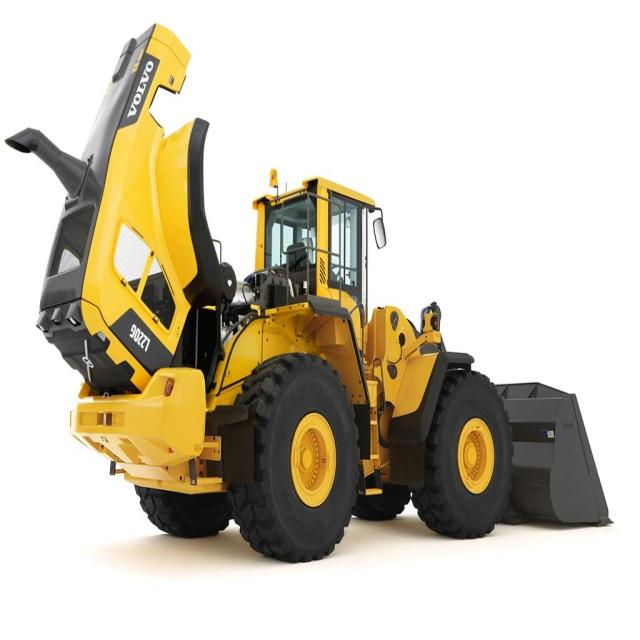buldozerpayloadergrader: (6, 21, 614, 554)
